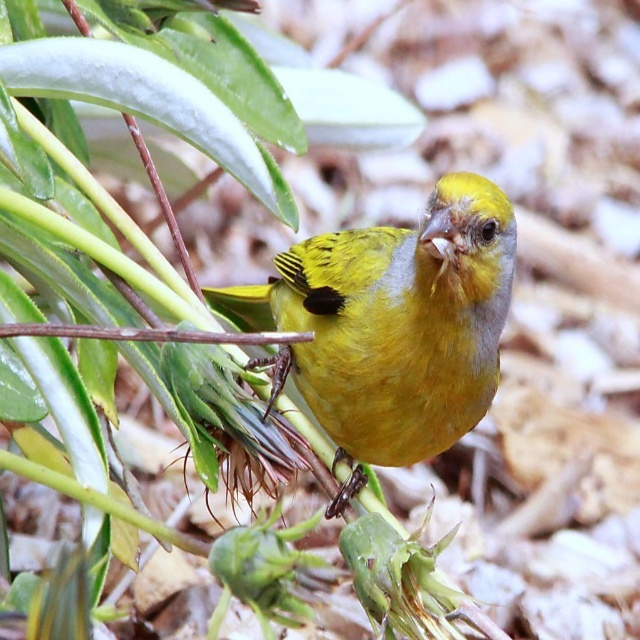Canary: (200, 166, 517, 525)
